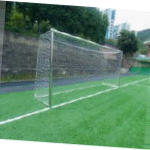goals: (34, 27, 124, 110)
